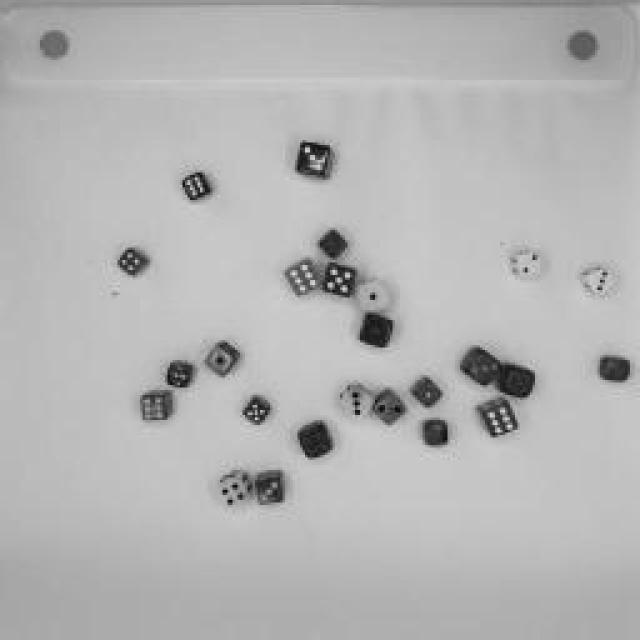dice_1: (200, 340, 242, 378), (352, 276, 392, 314), (358, 314, 398, 346), (410, 375, 442, 410)
dice_2: (296, 136, 336, 179), (372, 390, 406, 428), (598, 351, 632, 384), (512, 249, 542, 279)
dice_3: (332, 381, 372, 419), (461, 349, 499, 389), (583, 261, 615, 299)
dice_4: (295, 410, 337, 460), (213, 469, 255, 509), (499, 361, 541, 399), (120, 242, 155, 282), (420, 419, 450, 449)
dice_5: (322, 261, 358, 299), (240, 396, 272, 429), (320, 226, 350, 259)
dice_6: (478, 399, 518, 436), (286, 258, 319, 298), (140, 390, 175, 422), (181, 171, 214, 201), (165, 358, 195, 390)
